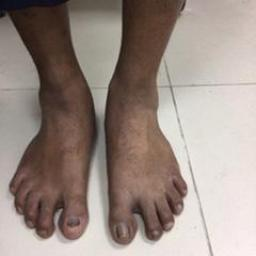Dorsal View -Both Feet-: (3, 44, 201, 250)
